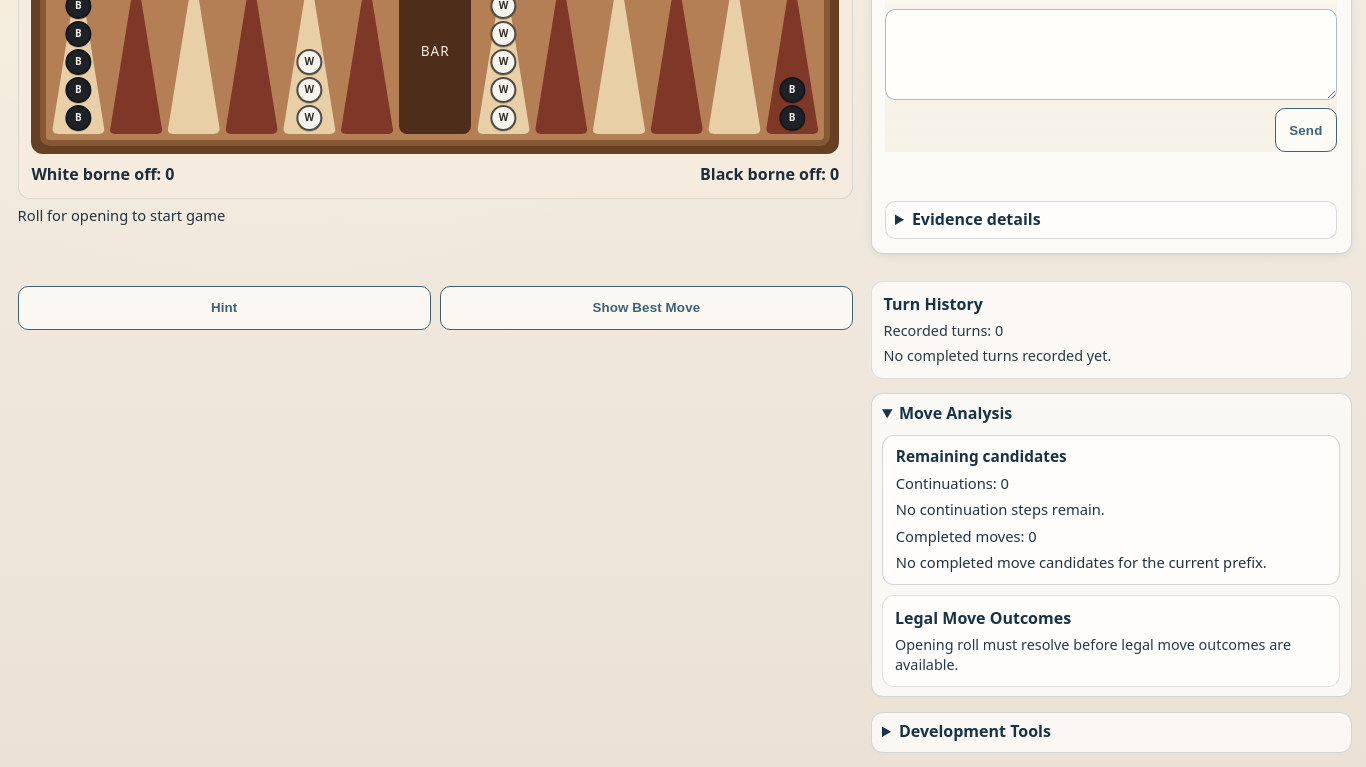
App opening roll lifecycle › disables move interaction and manual dice assignment before opening resolves
The width and height of the screenshot is (1366, 767).
(page scrolled)
What coordinates should you click on to do the following:
click the heading "Development Tools"
I would click on:
 (975, 731)
Its box is [899,720,1051,742].
(page scrolled)
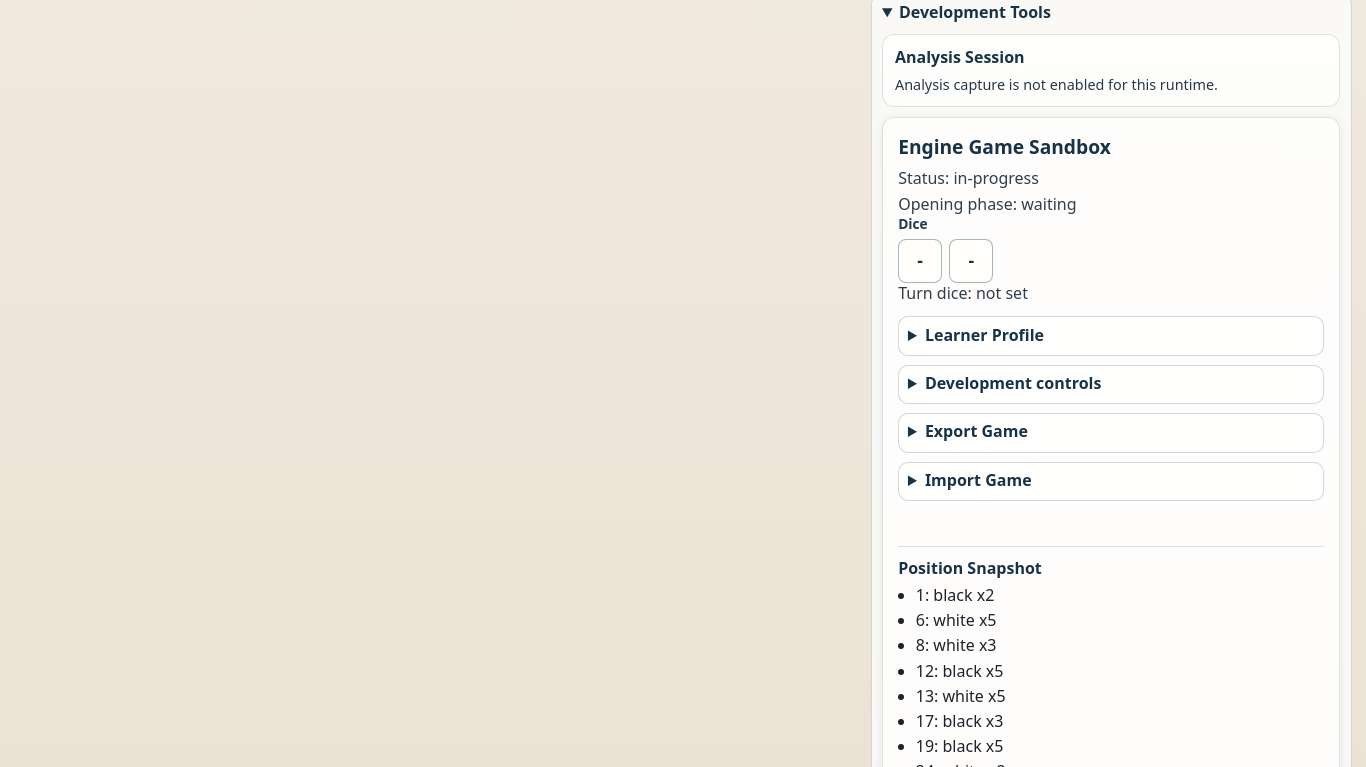
What coordinates should you click on to do the following:
click the heading "Development controls"
I would click on:
 (1013, 383)
Its box is [925,372,1101,394].
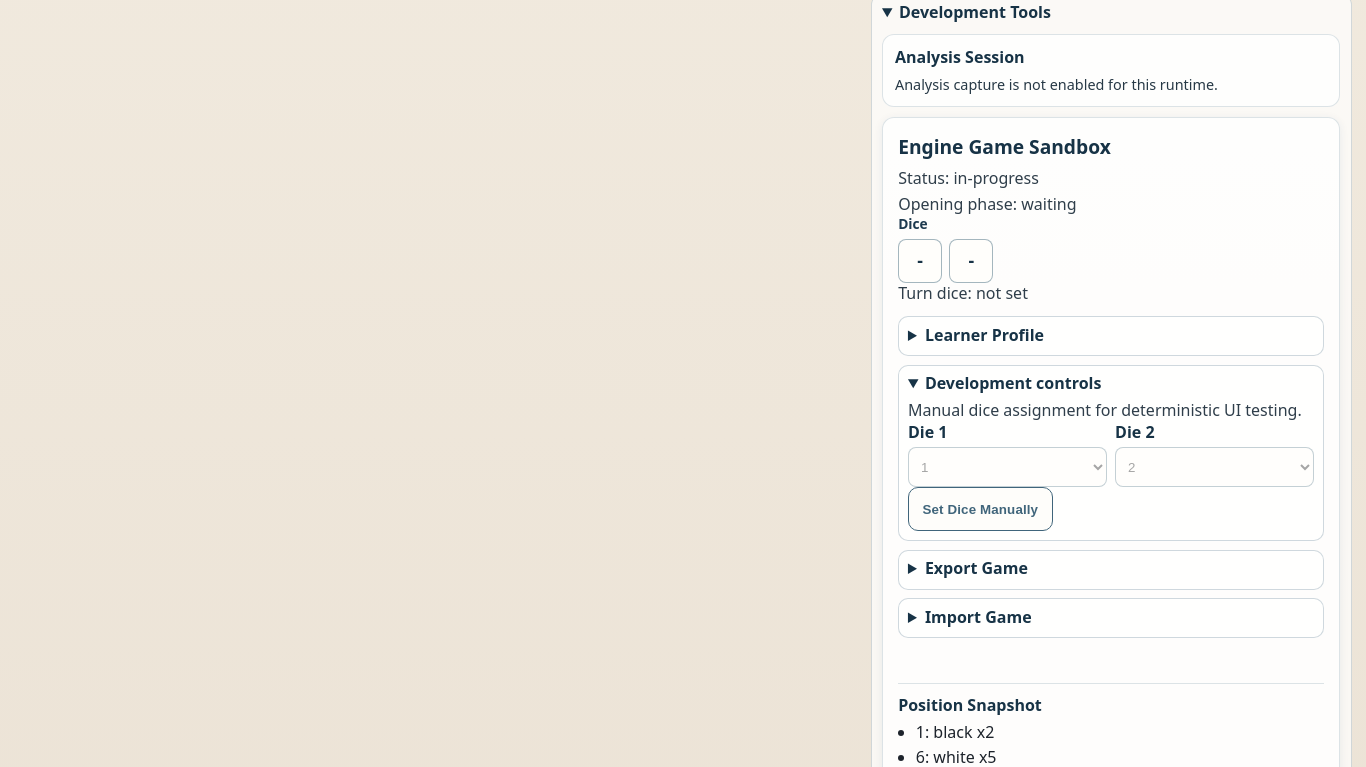
Now the button "Set Dice Manually" is disabled, box [908,487,1053,531]
Now the dropdown labelled "Die 1" is disabled, box [908,447,1107,487]
Now the dropdown labelled "Die 2" is disabled, box [1115,447,1314,487]
